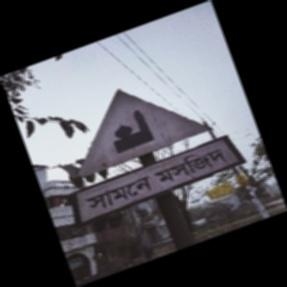Mosque in front: (73, 81, 249, 231)
